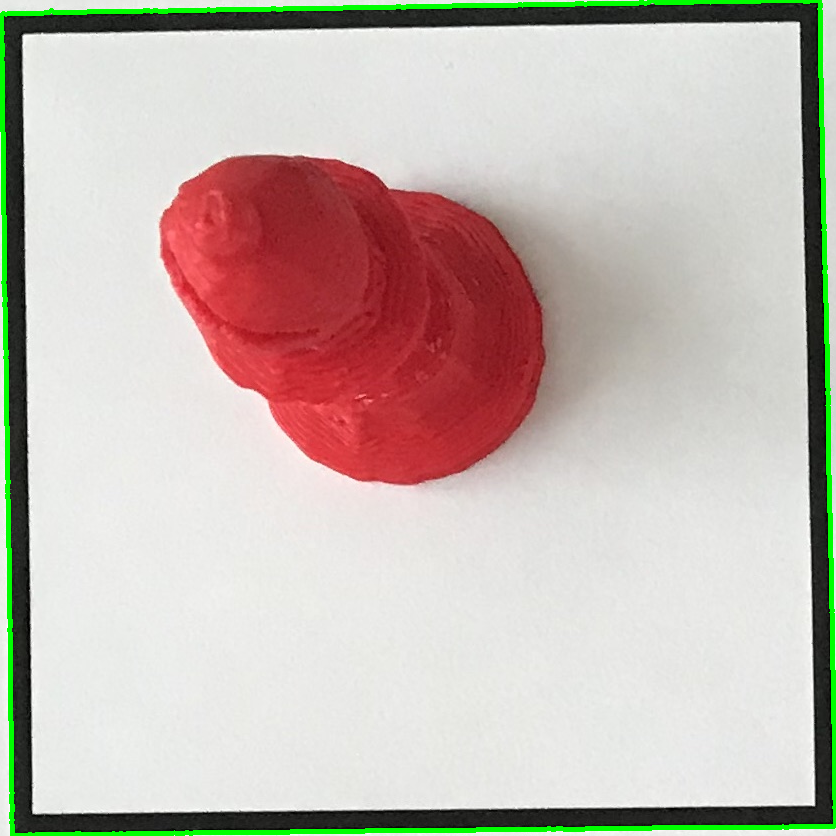Red Bishop: (152, 124, 564, 511)
